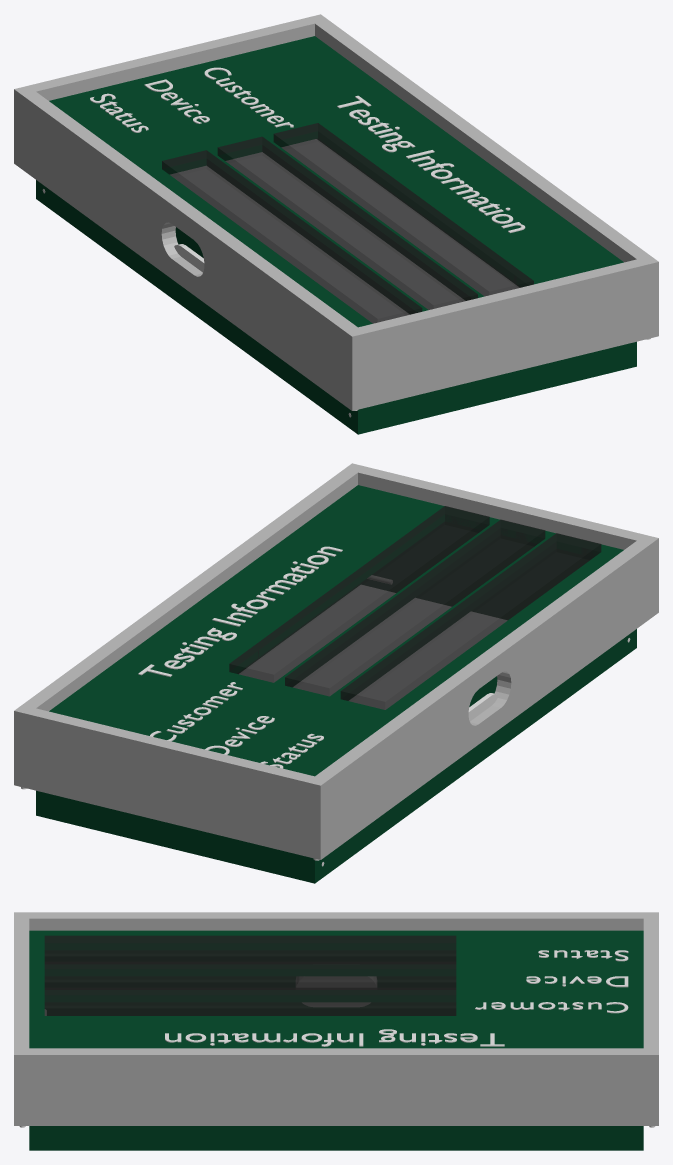
The model's file is LEDSingDisplay_design.dae.
3 renders of one model, top to bottom at view 1: azimuth 30°, elevation 25°; view 2: azimuth 150°, elevation 25°; view 3: azimuth 270°, elevation 25°, orthographic. The views are drawn at different scales.
Visible parts, largest first — view 1: Plane.011, Plane.015, Plane.014, Text.004, Text.005, Text.006; view 2: Plane.011, Plane.015, Plane.014, Text.004, Text.005; view 3: Plane.011, Plane.015, Plane.014, Text.004, Cube.001, Text.005, Text.006, Text.007.
Part boxes in pixels (left/top/right/bottom): Plane.011: left=36, top=36, right=636, bottom=434; Plane.015: left=14, top=14, right=658, bottom=410; Plane.014: left=162, top=123, right=533, bottom=323; Text.004: left=337, top=95, right=525, bottom=232; Text.005: left=204, top=67, right=293, bottom=127; Text.006: left=144, top=79, right=209, bottom=123; Plane.011: left=36, top=485, right=636, bottom=883; Plane.015: left=14, top=463, right=658, bottom=859; Plane.014: left=229, top=506, right=601, bottom=709; Text.004: left=138, top=546, right=342, bottom=676; Text.005: left=150, top=682, right=242, bottom=741; Plane.011: left=29, top=930, right=643, bottom=1150; Plane.015: left=14, top=912, right=658, bottom=1125; Plane.014: left=44, top=935, right=456, bottom=1015; Text.004: left=165, top=1029, right=504, bottom=1046; Cube.001: left=45, top=977, right=376, bottom=1015; Text.005: left=475, top=1002, right=628, bottom=1013; Text.006: left=526, top=976, right=628, bottom=987; Text.007: left=538, top=950, right=628, bottom=961.
Size of the model in its own units: 0.22 by 0.42 by 0.0735.
